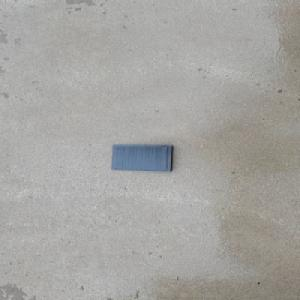PlasticPart: (110, 144, 175, 172)
